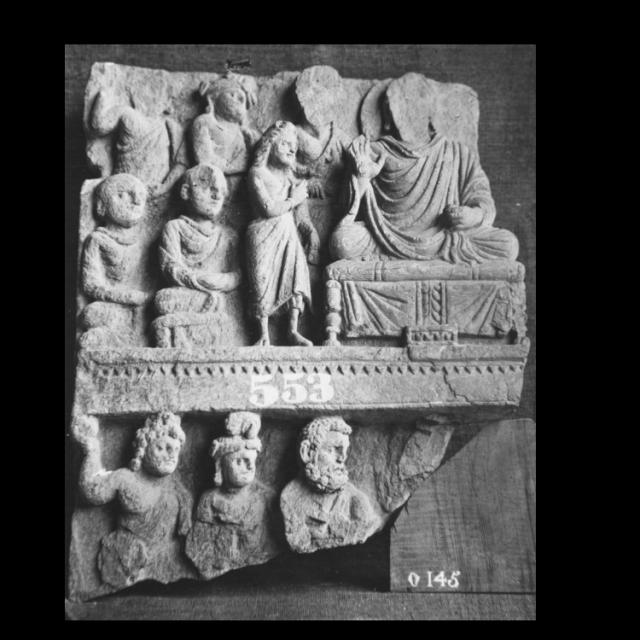buddha-sitting: (326, 72, 525, 337)
